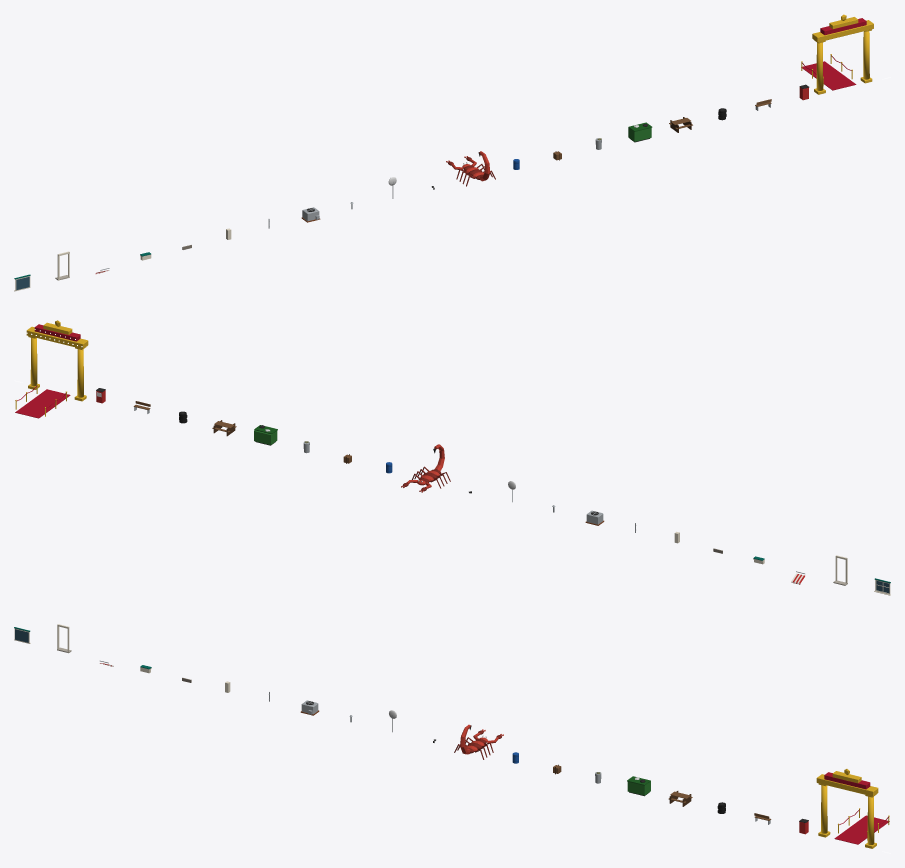
File: buildings.glb
The picture shows the model from 3 angles, top to bottom: view 1: azimuth 30°, elevation 25°; view 2: azimuth 150°, elevation 25°; view 3: azimuth 330°, elevation 25°; orthographic projection.
Visible parts, largest first — view 1: portal, scorpion; view 2: portal, scorpion; view 3: portal, scorpion.
Boxes of the visible parts, left/top/right/bottom form: portal: left=801, top=14, right=873, bottom=94; scorpion: left=446, top=151, right=495, bottom=186; portal: left=15, top=320, right=88, bottom=418; scorpion: left=401, top=444, right=450, bottom=492; portal: left=816, top=769, right=889, bottom=848; scorpion: left=454, top=724, right=503, bottom=759.
Bounding box in the file's own units: 95.86 × 8.4 × 8.75.
